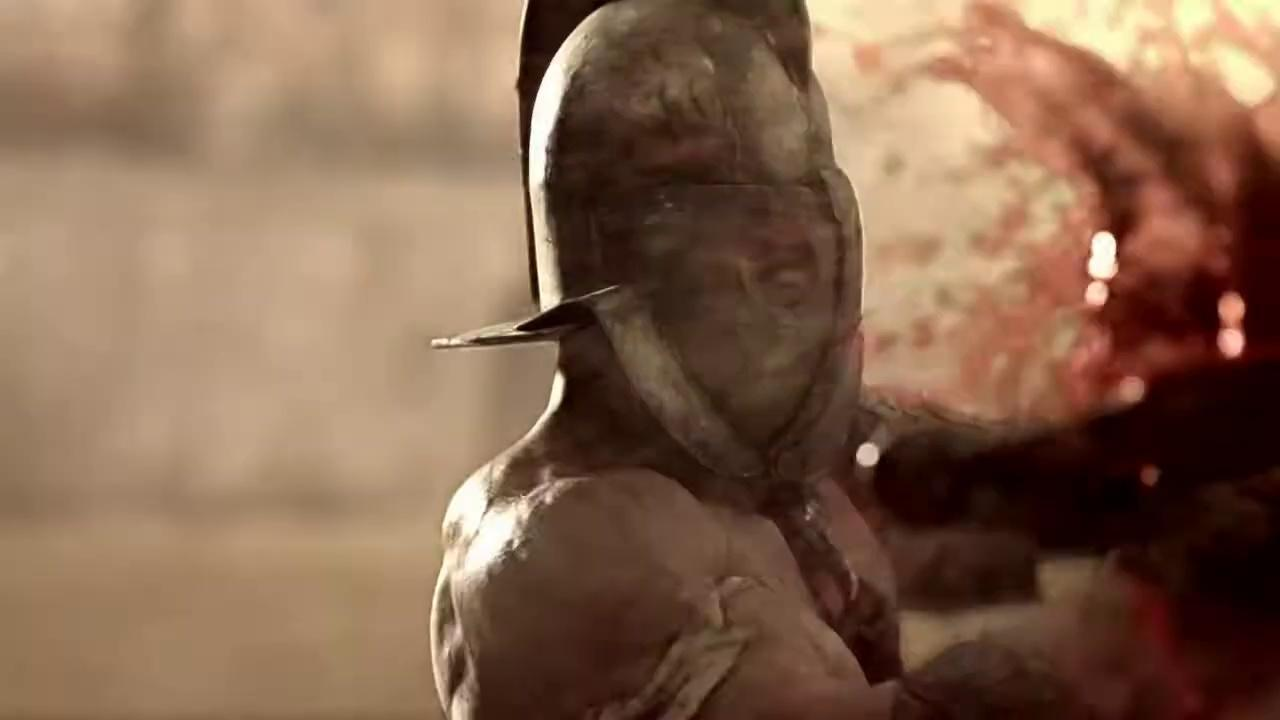Fire: (829, 0, 1280, 415), (1045, 538, 1280, 718)
